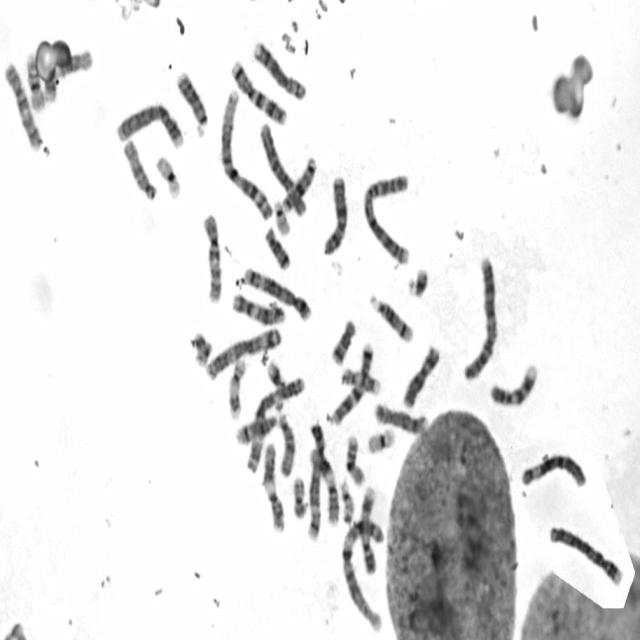A1: (218, 86, 274, 222), (339, 512, 386, 634)
A2: (360, 167, 414, 267), (461, 252, 498, 383)
A3: (243, 371, 306, 476), (204, 323, 283, 383)
B4: (546, 521, 625, 588), (113, 99, 186, 149)
B5: (241, 262, 313, 323), (307, 422, 326, 544)
C10: (2, 58, 42, 154), (200, 210, 224, 306)
C11: (307, 445, 340, 527), (260, 437, 287, 535)
C12: (41, 47, 95, 102), (228, 290, 286, 326)
C6: (258, 119, 307, 218), (518, 449, 588, 491)
C7: (327, 338, 375, 428), (228, 57, 288, 126)
C8: (251, 36, 307, 102), (371, 399, 428, 434)
C9: (487, 359, 538, 409), (358, 482, 378, 574)
D13: (174, 67, 210, 136), (279, 153, 318, 215)
D14: (367, 289, 415, 344), (232, 412, 278, 446)
D15: (121, 136, 158, 203), (276, 408, 297, 478)
E16: (23, 48, 45, 113), (344, 431, 367, 489)
E17: (225, 354, 246, 421), (338, 365, 381, 396)
E18: (328, 315, 358, 367), (262, 223, 292, 271)
F19: (154, 151, 183, 201), (366, 424, 396, 456)
F20: (290, 473, 309, 521), (190, 330, 213, 369)
G21: (405, 263, 431, 300), (265, 356, 286, 392)
G22: (337, 476, 356, 526), (272, 196, 292, 236)
X: (399, 340, 442, 410), (319, 172, 350, 257)
